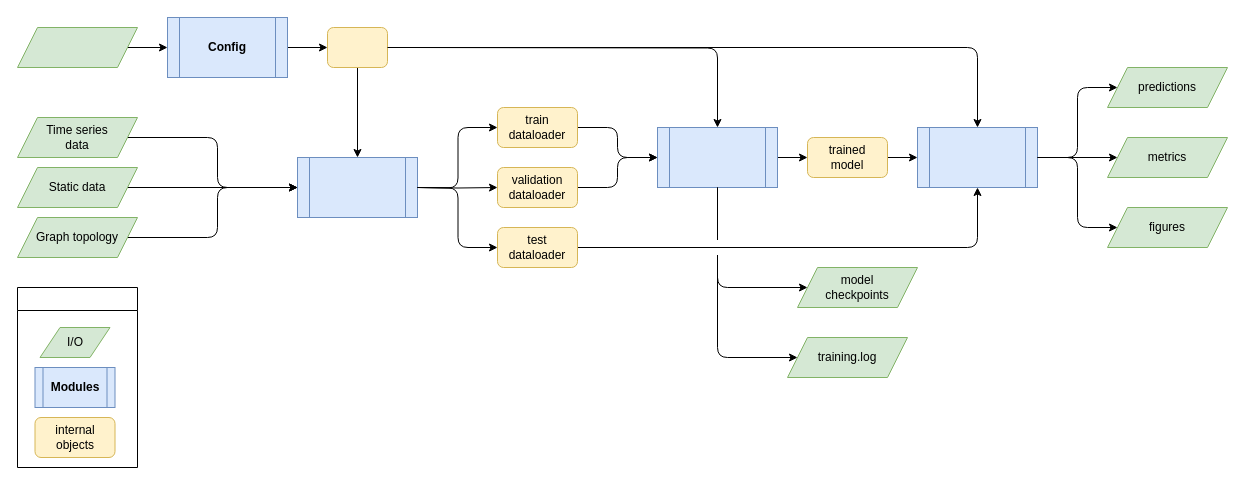
The diagram is 1245 pixels wide and 485 high, and some of its shapes have lost their labels. Each missing label, with the centre of its shape:
cfg: point (357, 47)
config_file.yml: point (77, 47)
Dataset & Dataloader: point (357, 187)
Evaluation: point (977, 157)
Legend: point (77, 377)
Trainer: point (717, 157)
